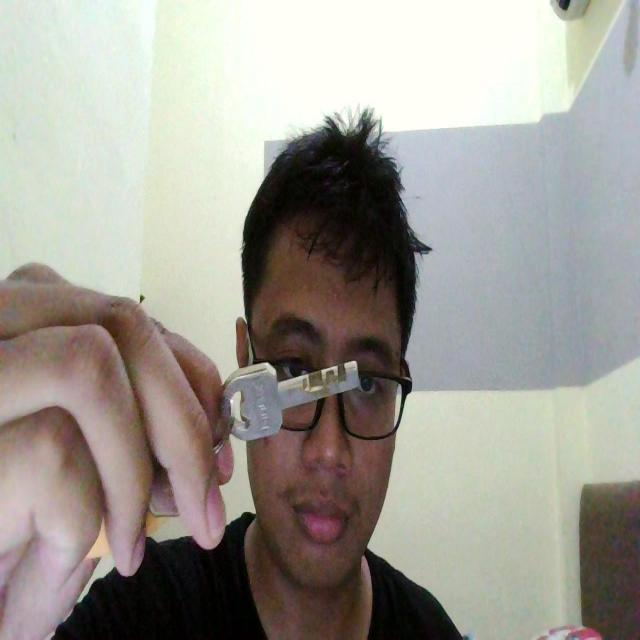kunci_pagar: (211, 349, 366, 451)
